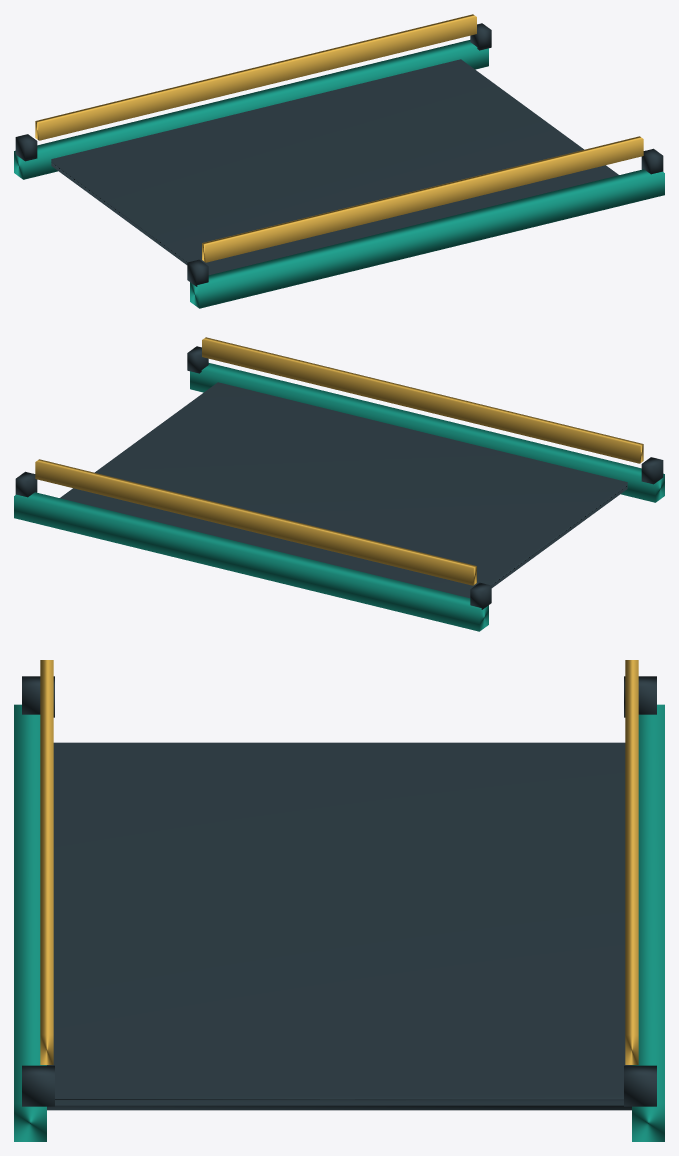
The model's file is corner_rotor.dae.
The picture shows the model from 3 angles, top to bottom: view 1: azimuth 30°, elevation 25°; view 2: azimuth 150°, elevation 25°; view 3: azimuth 270°, elevation 25°; orthographic projection. The views are drawn at different scales.
Parts seen in each view (by area): view 1: rotor_support_plate, frame-1, guard-1, guard1, frame1, corner_belt_bearing_-1_1, corner_belt_bearing_-1_-1, corner_belt_bearing_1_-1; view 2: rotor_support_plate, frame1, guard1, guard-1, frame-1, corner_belt_bearing_-1_-1, corner_belt_bearing_-1_1, corner_belt_bearing_1_1; view 3: rotor_support_plate, frame-1, frame1, guard-1, guard1, crossmember0.38, corner_belt_bearing_1_-1, corner_belt_bearing_1_1, corner_belt_bearing_-1_-1, corner_belt_bearing_-1_1.
Part boxes in pixels (x1,y1,x2,y2): rotor_support_plate: [51, 59, 618, 275]; frame-1: [190, 169, 664, 308]; guard-1: [202, 136, 643, 262]; guard1: [35, 14, 476, 140]; frame1: [14, 40, 488, 179]; corner_belt_bearing_-1_1: [15, 134, 37, 161]; corner_belt_bearing_-1_-1: [187, 259, 208, 286]; corner_belt_bearing_1_-1: [641, 148, 663, 174]; rotor_support_plate: [60, 382, 627, 598]; frame1: [14, 492, 488, 631]; guard1: [35, 459, 476, 585]; guard-1: [202, 337, 643, 463]; frame-1: [190, 363, 664, 502]; corner_belt_bearing_-1_-1: [641, 457, 663, 484]; corner_belt_bearing_-1_1: [470, 582, 491, 609]; corner_belt_bearing_1_1: [15, 471, 37, 497]; rotor_support_plate: [47, 742, 631, 1105]; frame-1: [14, 704, 46, 1141]; frame1: [632, 704, 664, 1141]; guard-1: [40, 660, 53, 1064]; guard1: [625, 660, 638, 1064]; crossmember0.38: [47, 1105, 631, 1110]; corner_belt_bearing_1_-1: [22, 1065, 54, 1106]; corner_belt_bearing_1_1: [624, 1065, 656, 1106]; corner_belt_bearing_-1_-1: [22, 676, 54, 717]; corner_belt_bearing_-1_1: [624, 676, 656, 717].
Bounding box in the file's own units: 1 × 0.69 × 0.1195.
